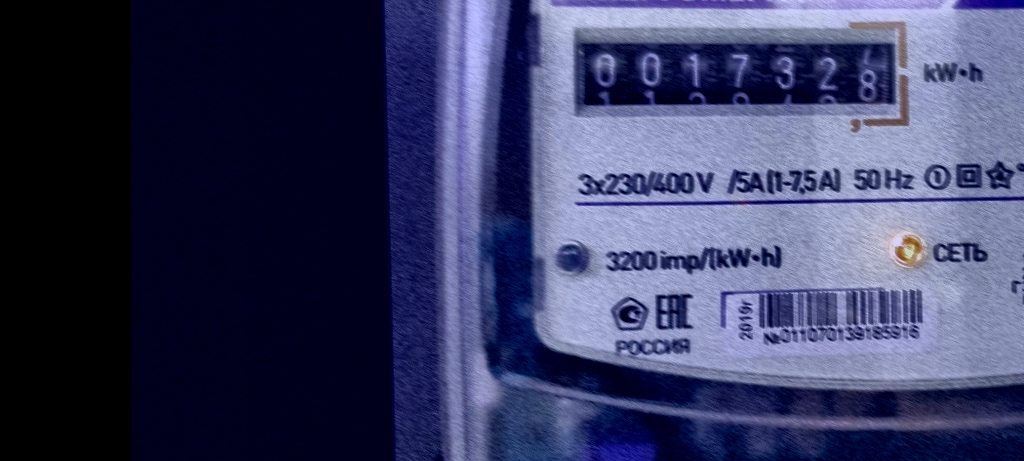0: (592, 47, 619, 88), (640, 48, 663, 86)
1: (684, 48, 704, 88)
2: (816, 53, 839, 90)
3: (774, 52, 797, 89)
7: (729, 49, 752, 88)
8: (858, 64, 877, 100)
screen: (563, 15, 919, 140)
